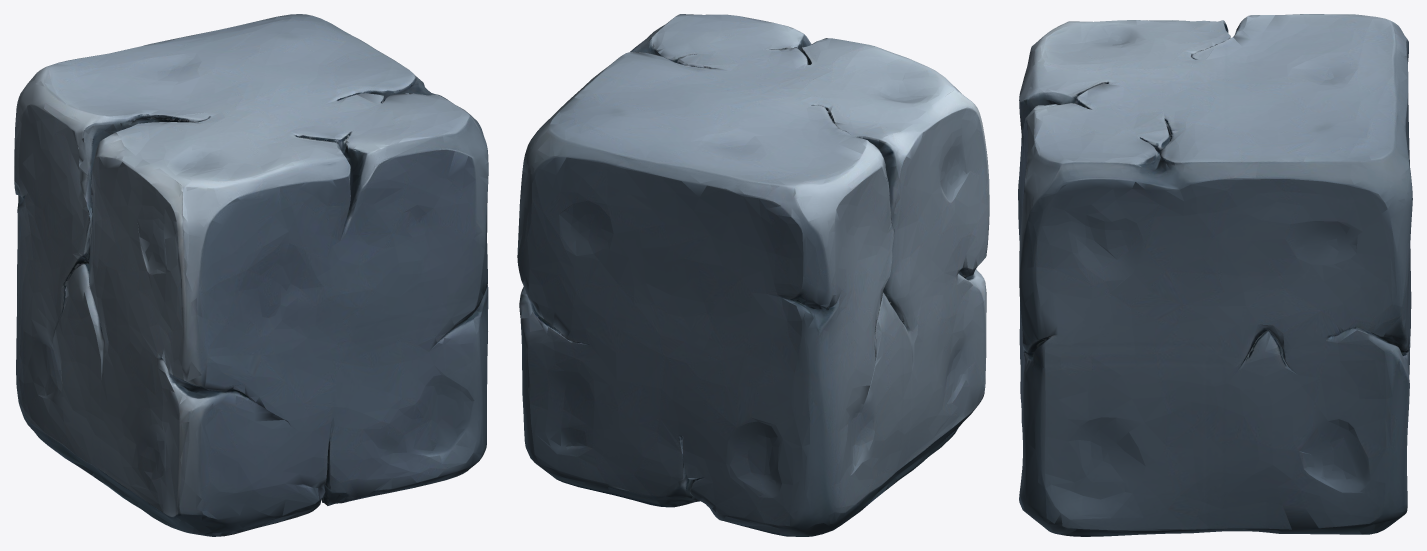
The model's file is kup_tas.glb.
3 views of the same model, side by side, from view 1: azimuth 30°, elevation 25°; view 2: azimuth 150°, elevation 25°; view 3: azimuth 270°, elevation 25° (orthographic). The views are drawn at different scales.
Parts seen in each view (by area): view 1: tripo_node_760e0828-e559-44c5-898f-4292b17c70d1; view 2: tripo_node_760e0828-e559-44c5-898f-4292b17c70d1; view 3: tripo_node_760e0828-e559-44c5-898f-4292b17c70d1.
Part boxes in pixels (x1,y1,x2,y2): tripo_node_760e0828-e559-44c5-898f-4292b17c70d1: (14, 14, 488, 536); tripo_node_760e0828-e559-44c5-898f-4292b17c70d1: (517, 14, 989, 536); tripo_node_760e0828-e559-44c5-898f-4292b17c70d1: (1018, 14, 1412, 536).
Size of the model in its own units: 0.9008 by 0.9793 by 0.9111.
1 material, 1 textured.
